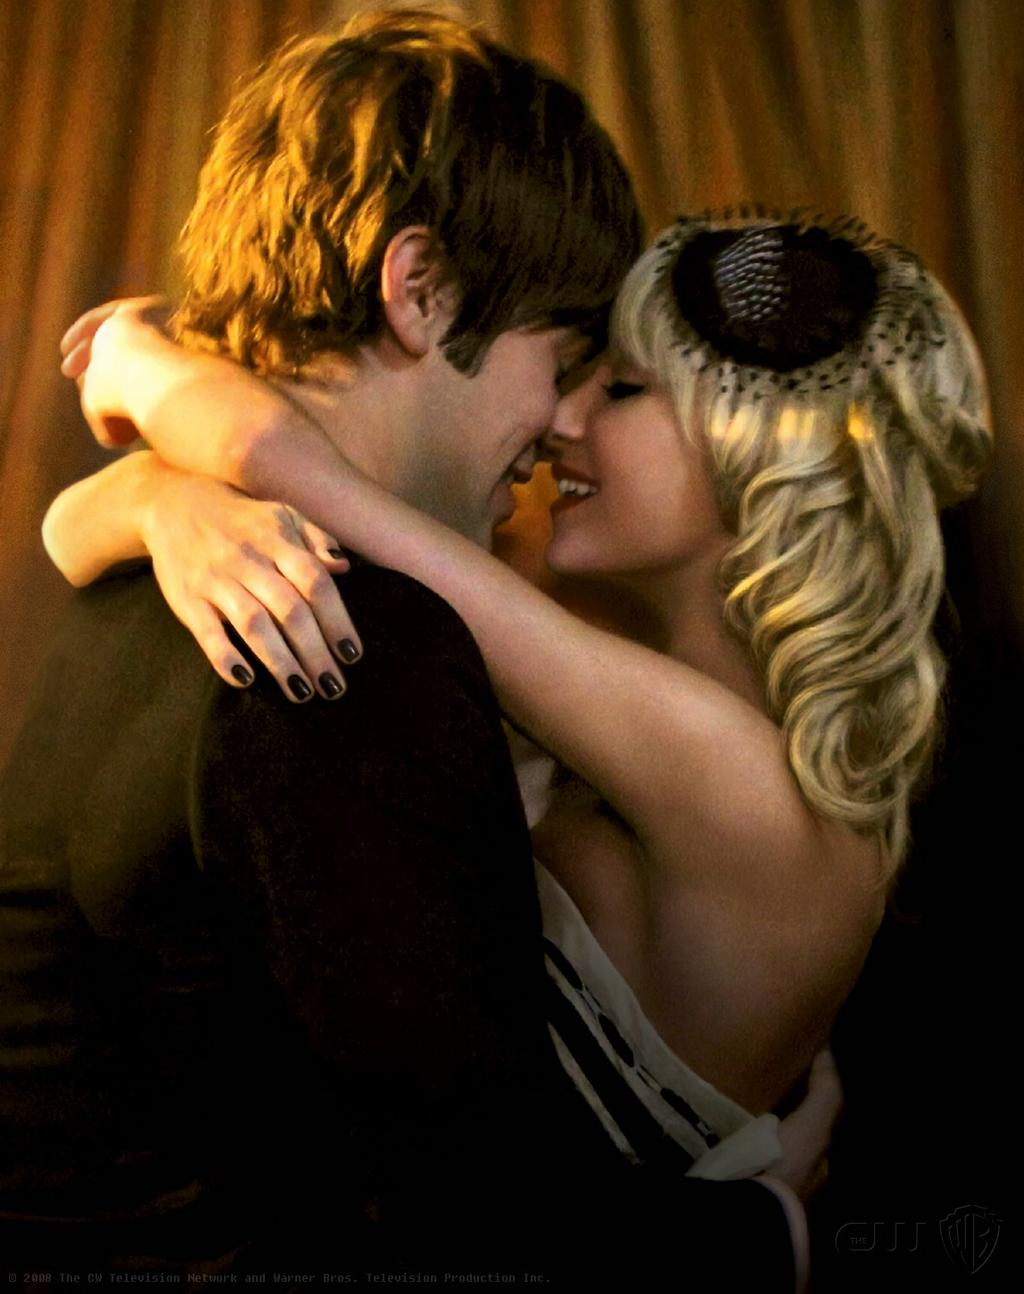face: (546, 253, 796, 584), (427, 253, 632, 567)
